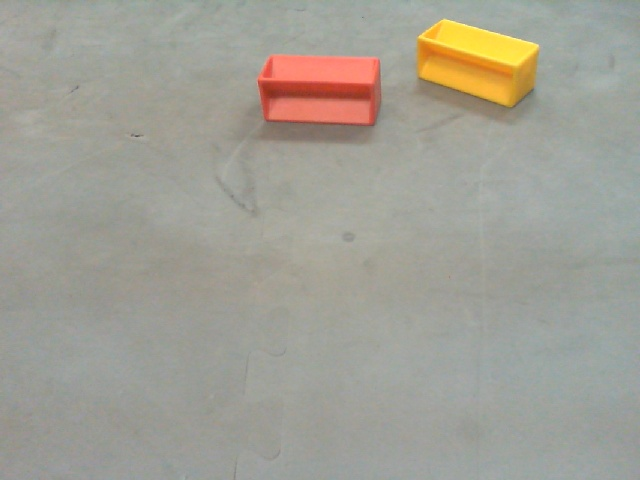RedSample: (259, 54, 381, 125)
YellowSample: (415, 16, 543, 111)
